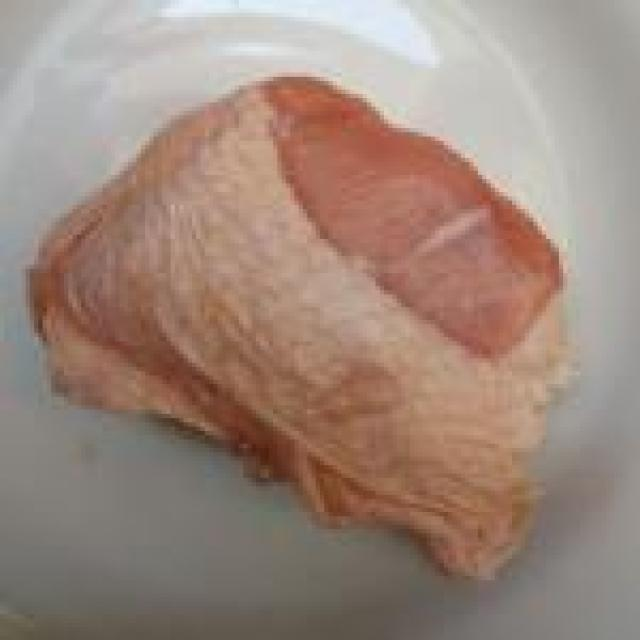breast: (54, 70, 562, 568)
